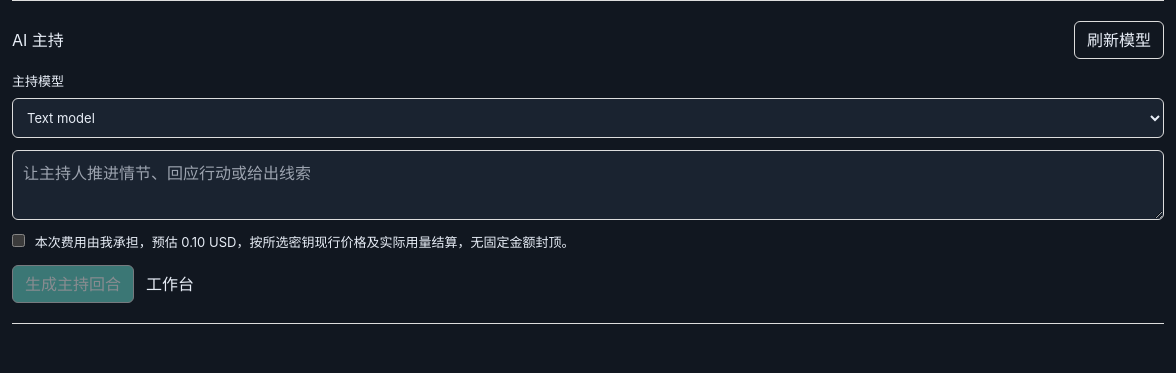
Test case: tavern owner AI turn › allows a new explicitly authorized request after a confirmed terminal failure
Click the checkbox labelled "本次费用由我承担，预估 0.10 USD，按所选密钥现行价格及实际用量结算，无固定金额封顶。".
click(18, 240)  # box [12, 234, 25, 247]
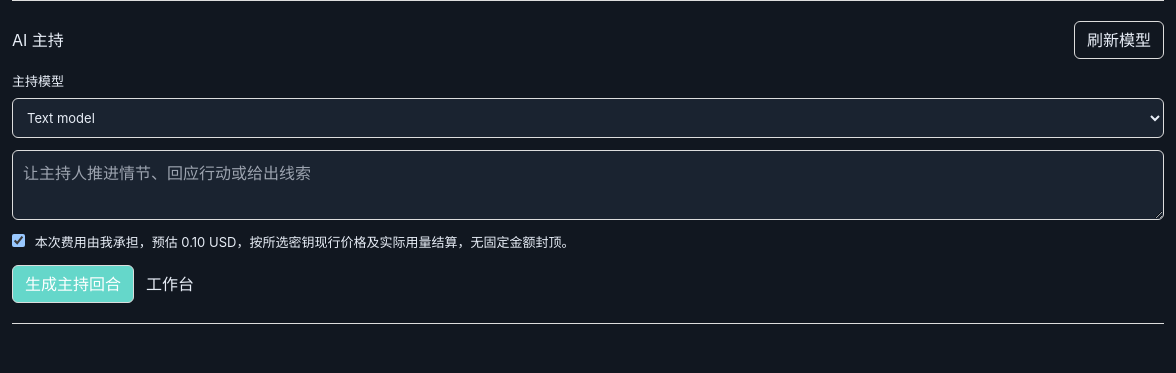
Click the button with class "ai-generate".
click(73, 284)  # box [12, 265, 134, 303]
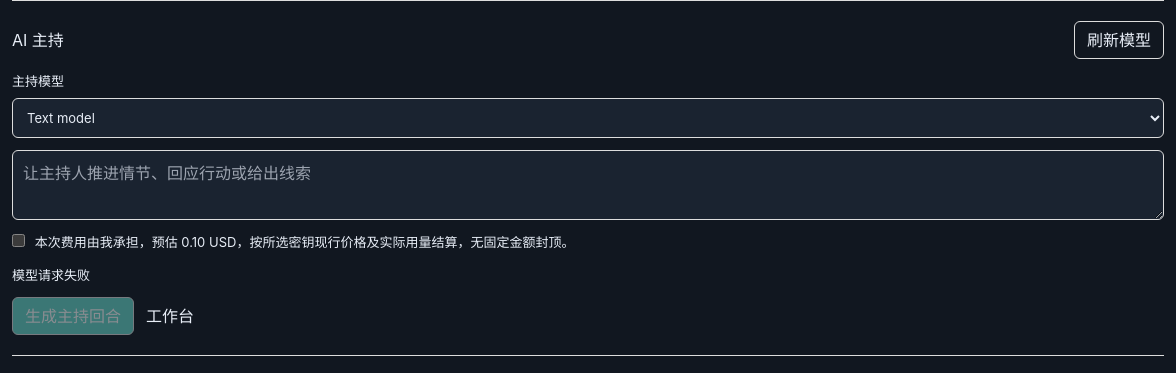
Now the text "模型请求失败" is shown, box [12, 267, 90, 283]
Now the button with class "ai-generate" is disabled, box [12, 297, 134, 335]
Now the checkbox labelled "本次费用由我承担，预估 0.10 USD，按所选密钥现行价格及实际用量结算，无固定金额封顶。" is not checked, box [12, 234, 25, 247]
